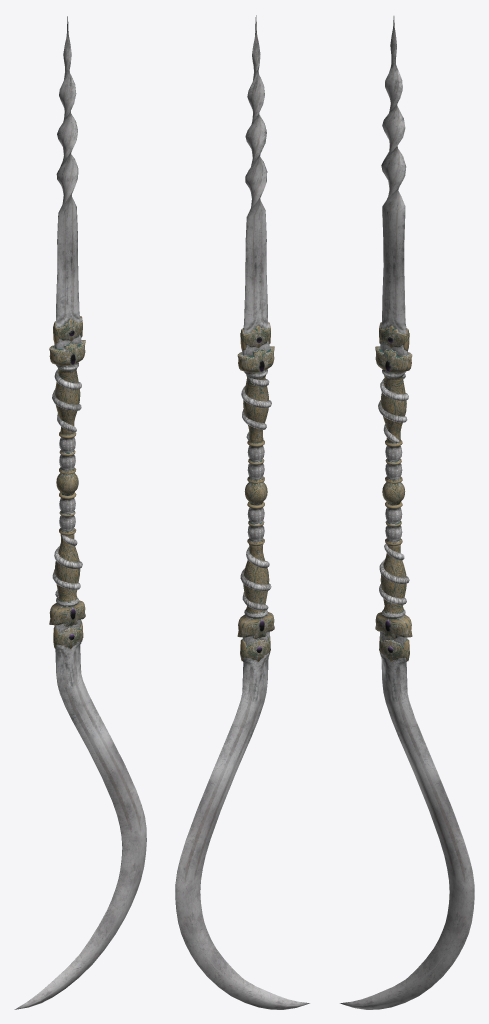
The model's file is le_pd_godskinpeeler.glb.
The picture shows the model from 3 angles, left to right: view 1: azimuth 30°, elevation 25°; view 2: azimuth 210°, elevation 25°; view 3: azimuth 330°, elevation 25°; orthographic projection. The views are drawn at different scales.
Visible parts, largest first — view 1: ForeskinPeeler; view 2: ForeskinPeeler; view 3: ForeskinPeeler.
Boxes of the visible parts, left/top/right/bottom form: ForeskinPeeler: left=14, top=16, right=146, bottom=1009; ForeskinPeeler: left=175, top=15, right=309, bottom=1009; ForeskinPeeler: left=340, top=16, right=474, bottom=1009.
Bounding box in the file's own units: 30.24 × 214 × 5.84.
1 material, 1 textured.
